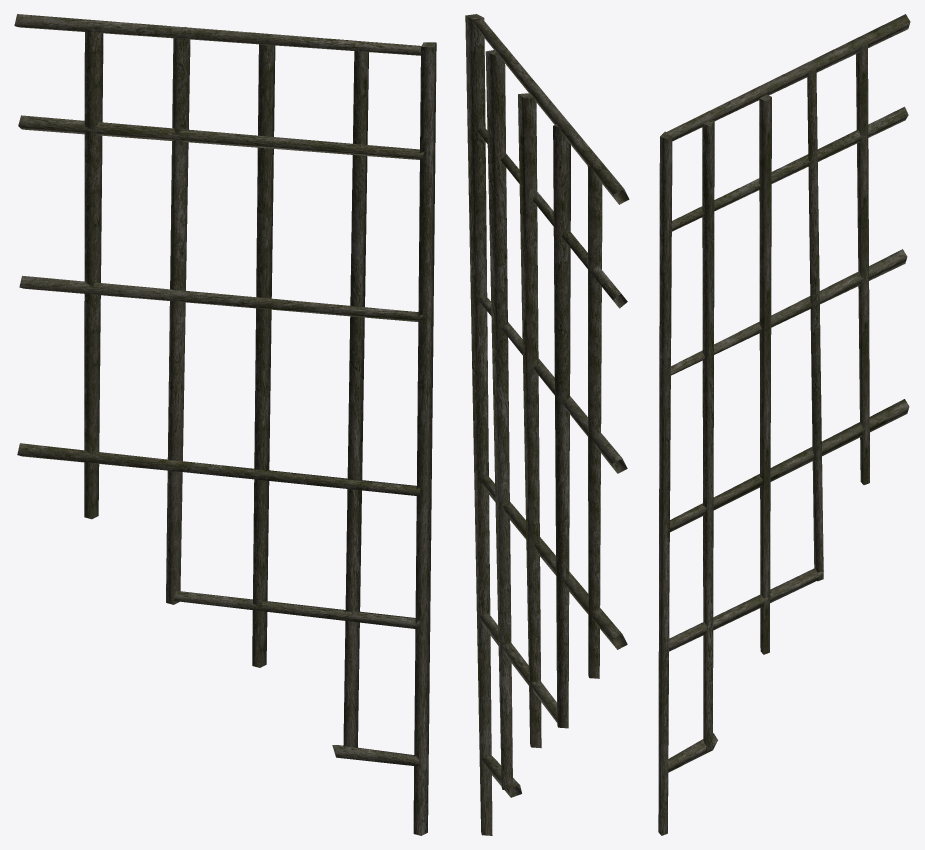
File: TI_Roof_Frame_05.fbx
3 views of the same model, side by side, from view 1: azimuth 30°, elevation 25°; view 2: azimuth 150°, elevation 25°; view 3: azimuth 270°, elevation 25° (orthographic). The views are drawn at different scales.
Parts seen in each view (by area): view 1: TI_Roof_Frame_05; view 2: TI_Roof_Frame_05; view 3: TI_Roof_Frame_05.
Part boxes in pixels (<box>): TI_Roof_Frame_05: <box>14,14,436,835</box>; TI_Roof_Frame_05: <box>465,14,629,835</box>; TI_Roof_Frame_05: <box>658,14,910,835</box>.
Size of the model in its own units: 2.83 by 7.32 by 2.38.
